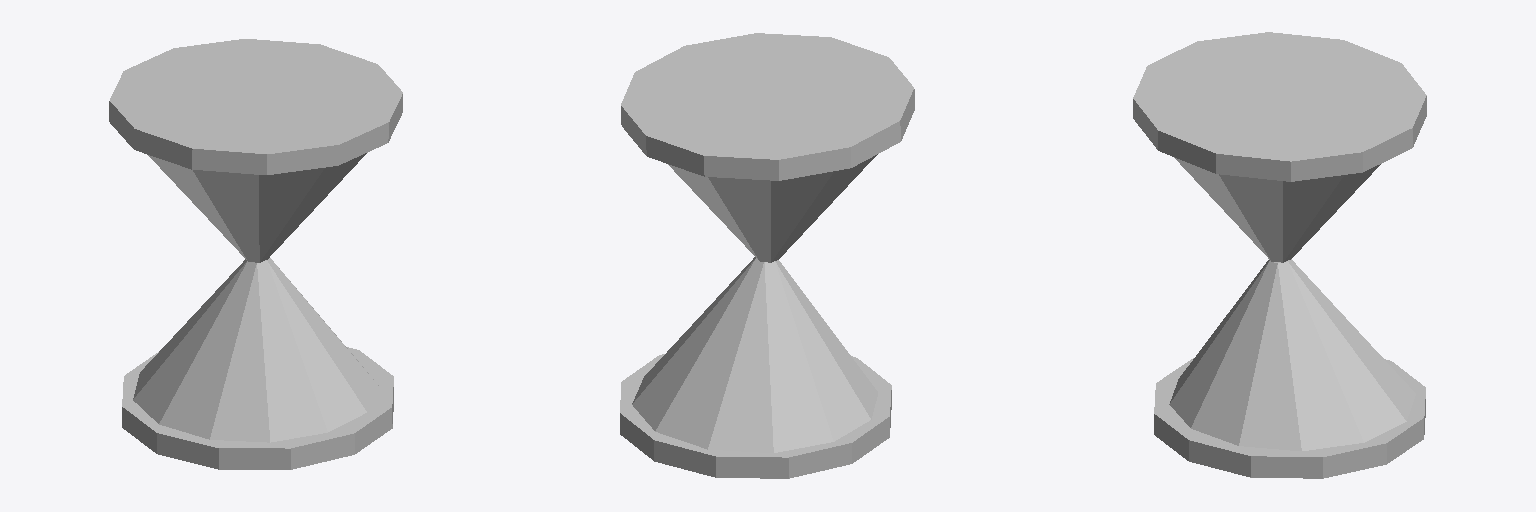
3 renders of one model, left to right at view 1: azimuth 30°, elevation 25°; view 2: azimuth 150°, elevation 25°; view 3: azimuth 270°, elevation 25°, orthographic.
Visible parts, largest first — view 1: group[number redacted], group[number redacted], group[number redacted], group[number redacted]; view 2: group[number redacted], group[number redacted], group[number redacted], group[number redacted]; view 3: group[number redacted], group[number redacted], group[number redacted], group[number redacted].
Part boxes in pixels (left/top/right/bottom): group[number redacted]: left=109, top=39, right=402, bottom=174; group[number redacted]: left=133, top=258, right=378, bottom=442; group[number redacted]: left=122, top=347, right=393, bottom=469; group[number redacted]: left=148, top=153, right=366, bottom=262; group[number redacted]: left=621, top=33, right=914, bottom=180; group[number redacted]: left=632, top=257, right=877, bottom=452; group[number redacted]: left=620, top=354, right=891, bottom=478; group[number redacted]: left=668, top=154, right=877, bottom=262; group[number redacted]: left=1133, top=32, right=1426, bottom=181; group[number redacted]: left=1169, top=259, right=1415, bottom=450; group[number redacted]: left=1154, top=358, right=1425, bottom=478; group[number redacted]: left=1174, top=157, right=1380, bottom=262.
Size of the model in its own units: 0.4308 by 0.5272 by 0.4294.